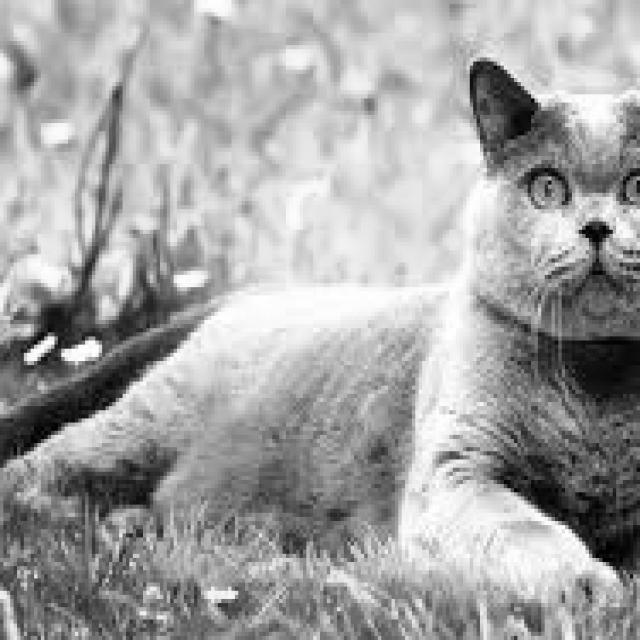british: (463, 33, 640, 344)
